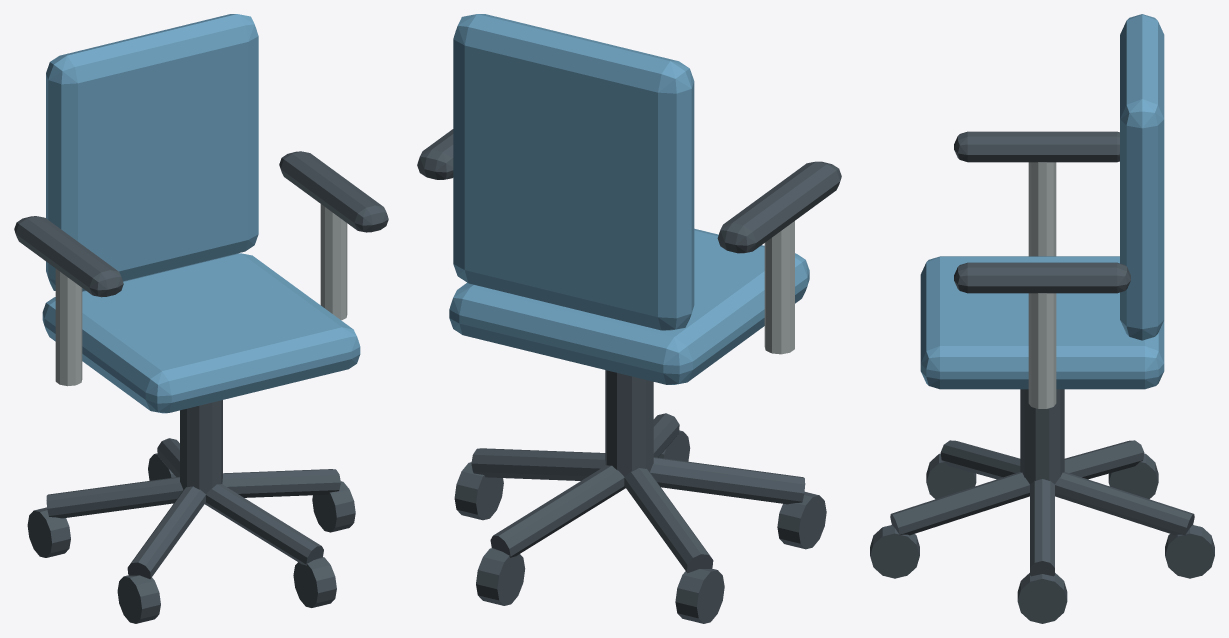
File: reception_T3_chair.glb
3 views of the same model, side by side, from view 1: azimuth 30°, elevation 25°; view 2: azimuth 150°, elevation 25°; view 3: azimuth 270°, elevation 25° (orthographic). The views are drawn at different scales.
Visible parts, largest first — view 1: reception_T3_chair__Static_Assembly, caster_3.001, caster_4.001, caster_2.001, caster_0.001; view 2: reception_T3_chair__Static_Assembly, caster_2.001, caster_1.001, caster_3.001, caster_0.001, caster_4.001; view 3: reception_T3_chair__Static_Assembly, caster_0.001, caster_1.001, caster_4.001, caster_2.001, caster_3.001.
Part boxes in pixels (box(x1,y1,x2,y2)): reception_T3_chair__Static_Assembly: box(14, 14, 388, 578); caster_3.001: box(117, 575, 160, 623); caster_4.001: box(293, 557, 336, 607); caster_2.001: box(27, 507, 70, 557); caster_0.001: box(312, 481, 355, 532); reception_T3_chair__Static_Assembly: box(417, 14, 841, 573); caster_2.001: box(675, 568, 724, 623); caster_1.001: box(476, 548, 525, 605); caster_3.001: box(777, 492, 826, 549); caster_0.001: box(454, 462, 503, 520); caster_4.001: box(658, 430, 690, 461); reception_T3_chair__Static_Assembly: box(890, 14, 1194, 576); caster_0.001: box(1017, 573, 1067, 623); caster_1.001: box(1165, 525, 1214, 578); caster_4.001: box(870, 525, 919, 578); caster_2.001: box(1108, 453, 1158, 499); caster_3.001: box(926, 453, 976, 499).
Size of the model in its own units: 0.63 by 0.99 by 0.6226.
